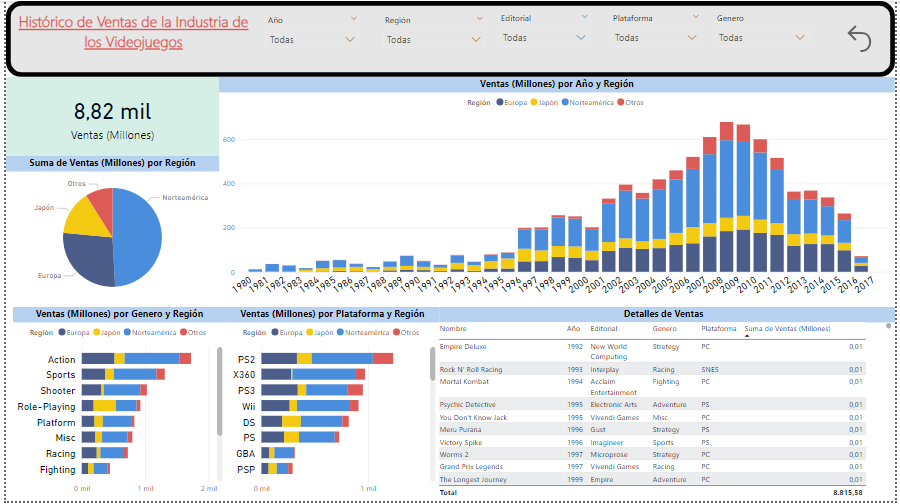

The dashboard page shown, as its layout file describes it:
{"tool":"powerbi","page":{"name":"Análisis de ventas","canvas":[1280,720],"ordinal":0},"visuals":[{"type":"columnChart","title":"Ventas (Millones) por Año y Región","fields":{"Category":["Ventas Videojuegos.Año"],"Y":["Sum(Ventas Videojuegos.Ventas (Millones))"],"Series":["Ventas Videojuegos.Región"]},"box":[306.7,109.4,973.4,331.2],"z":0},{"type":"tableEx","title":"Detalles de Ventas","fields":{"Values":["Ventas Videojuegos.Nombre","Ventas Videojuegos.Año","Ventas Videojuegos.Editorial","Ventas Videojuegos.Genero","Ventas Videojuegos.Plataforma","Sum(Ventas Videojuegos.Ventas (Millones))"]},"box":[613.4,440.6,666.7,279.4],"z":1000},{"type":"barChart","title":"Ventas (Millones) por Genero y Región","fields":{"Category":["Ventas Videojuegos.Genero"],"Y":["Sum(Ventas Videojuegos.Ventas (Millones))"],"Series":["Ventas Videojuegos.Región"]},"box":[10.1,440.6,306.7,279.4],"z":2000},{"type":"barChart","title":"Ventas (Millones) por Plataforma y Región","fields":{"Category":["Ventas Videojuegos.Plataforma"],"Y":["Sum(Ventas Videojuegos.Ventas (Millones))"],"Series":["Ventas Videojuegos.Región"]},"box":[316.8,440.6,306.7,279.4],"z":3000},{"type":"shape","box":[0,0,1280.2,109.4],"z":4000},{"type":"pieChart","fields":{"Y":["Sum(Ventas Videojuegos.Ventas (Millones))"],"Category":["Ventas Videojuegos.Región"]},"box":[0,223.2,306.7,217.4],"z":5000},{"type":"textbox","title":"Histórico de Ventas de la Industria de los Videojuegos","box":[13,10.1,341.3,85],"z":6000},{"type":"actionButton","box":[1203.8,13,50.4,82.1],"z":7000},{"type":"slicer","fields":{"Values":["Ventas Videojuegos.Genero"]},"box":[1010.9,10.1,155.5,99.4],"z":8000},{"type":"slicer","fields":{"Values":["Ventas Videojuegos.Plataforma"]},"box":[861.1,10.1,149.8,85],"z":9000},{"type":"slicer","fields":{"Values":["Ventas Videojuegos.Región"]},"box":[532.8,13,167,96.5],"z":10000},{"type":"slicer","fields":{"Values":["Ventas Videojuegos.Editorial"]},"box":[699.8,10.1,151.2,85],"z":11000},{"type":"slicer","title":"Año","fields":{"Values":["Ventas Videojuegos.Año"]},"box":[364.3,13,154.1,82.1],"z":12000},{"type":"card","fields":{"Values":["Sum(Ventas Videojuegos.Ventas (Millones))"]},"box":[0,109.4,306.7,113.8],"z":12001}]}

Visuals, with their boxes in screenshot pixels (x1, y1, x2, y2), scaled from the page's 1280x720 canvas onto the 900x504 screenshot:
"Ventas (Millones) por Año y Región" columnChart: [216,77,899,308]
"Detalles de Ventas" tableEx: [431,308,899,503]
"Ventas (Millones) por Genero y Región" barChart: [7,308,223,503]
"Ventas (Millones) por Plataforma y Región" barChart: [223,308,438,503]
shape: [0,0,899,77]
pieChart - Sum(Ventas Videojuegos.Ventas (Millones)) x Ventas Videojuegos.Región: [0,156,216,308]
"Histórico de Ventas de la Industria de los Videojuegos" textbox: [9,7,249,67]
actionButton: [846,9,882,67]
slicer - Ventas Videojuegos.Genero: [711,7,820,77]
slicer - Ventas Videojuegos.Plataforma: [605,7,711,67]
slicer - Ventas Videojuegos.Región: [375,9,492,77]
slicer - Ventas Videojuegos.Editorial: [492,7,598,67]
"Año" slicer: [256,9,364,67]
card - Sum(Ventas Videojuegos.Ventas (Millones)): [0,77,216,156]
